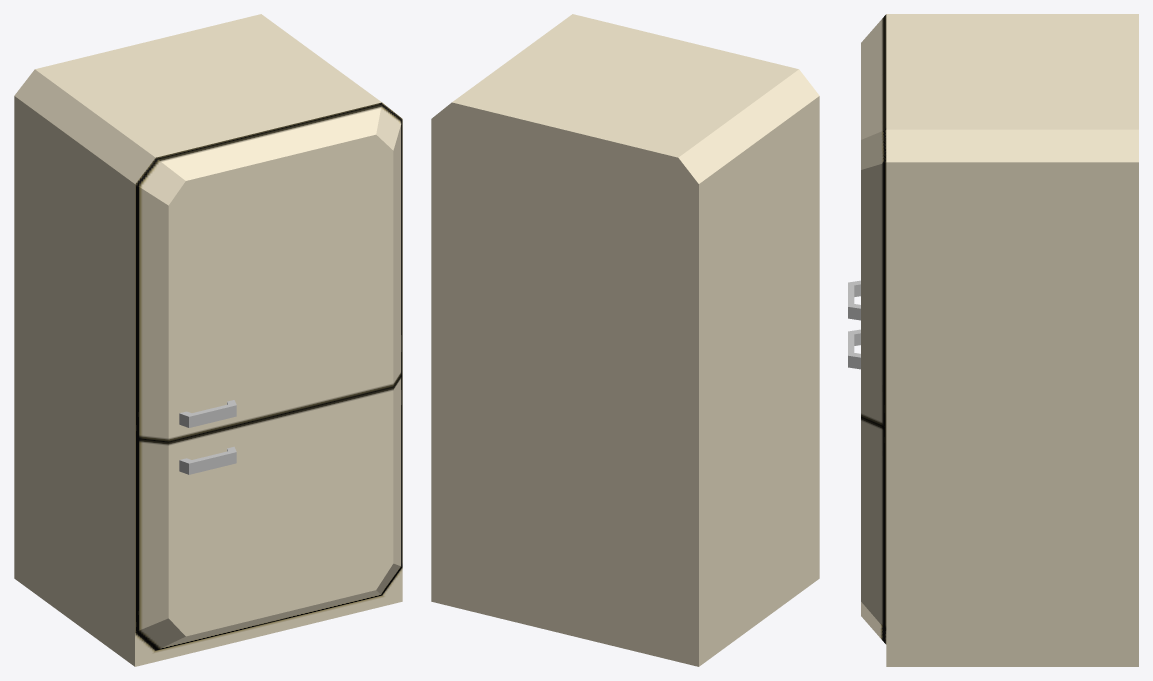
Rendered from refrigerator2_PLY.fbx.
3 views of the same model, side by side, from view 1: azimuth 30°, elevation 25°; view 2: azimuth 150°, elevation 25°; view 3: azimuth 270°, elevation 25° (orthographic). The views are drawn at different scales.
Visible parts, largest first — view 1: refrigerator2_PLY; view 2: refrigerator2_PLY; view 3: refrigerator2_PLY.
Part boxes in pixels (box(x1,y1,x2,y2)): refrigerator2_PLY: box(14, 14, 402, 666); refrigerator2_PLY: box(431, 14, 819, 666); refrigerator2_PLY: box(848, 14, 1138, 666).
Size of the model in its own units: 2.15 by 3.86 by 1.93.
